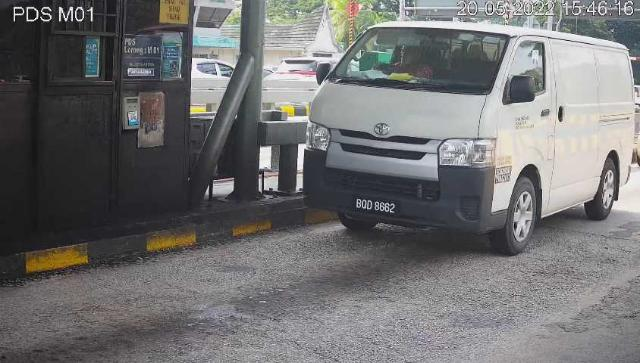License_Plate: (354, 194, 403, 220)
van: (305, 22, 636, 258)
